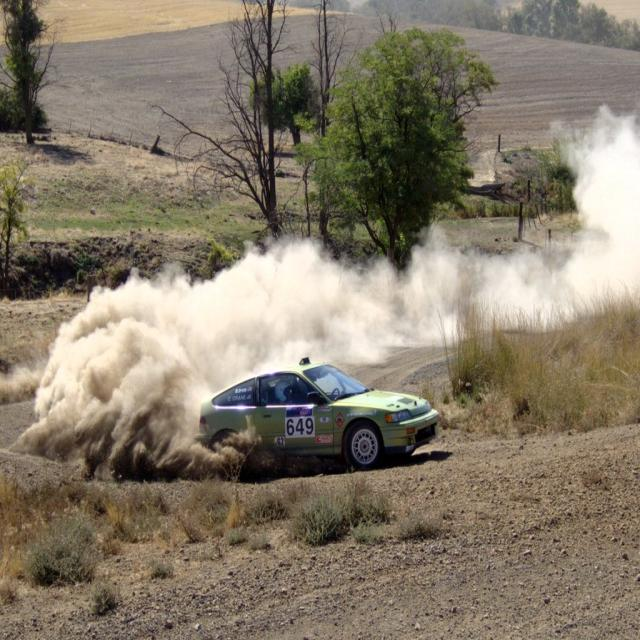car: (195, 360, 438, 476)
